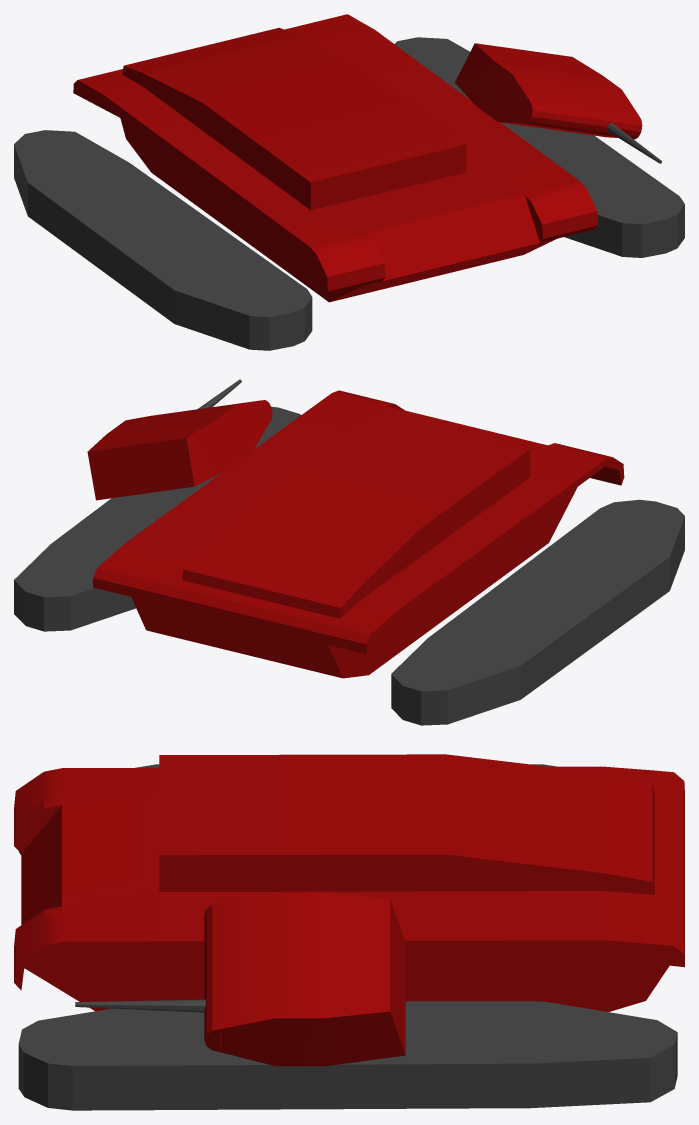
Rendered from PanzerIIBroken.fbx.
3 renders of one model, top to bottom at view 1: azimuth 30°, elevation 25°; view 2: azimuth 150°, elevation 25°; view 3: azimuth 270°, elevation 25°, orthographic. The views are drawn at different scales.
Parts seen in each view (by area): view 1: Chassis, TreadR, TreadL, Top; view 2: Chassis, TreadR, TreadL, Top; view 3: Chassis, TreadL, Top, Cannon.
Boxes of the visible parts, bbox=[...] form: Chassis: bbox=[73, 14, 597, 302]; TreadR: bbox=[14, 130, 312, 350]; TreadL: bbox=[394, 37, 684, 257]; Top: bbox=[455, 43, 642, 139]; Chassis: bbox=[93, 390, 624, 678]; TreadR: bbox=[391, 499, 684, 725]; TreadL: bbox=[14, 406, 300, 631]; Top: bbox=[87, 400, 272, 500]; Chassis: bbox=[14, 754, 684, 1011]; TreadL: bbox=[18, 1001, 677, 1110]; Top: bbox=[204, 892, 405, 1066]; Cannon: bbox=[75, 999, 205, 1012].
Size of the model in its own units: 5.33 by 1.28 by 4.77.
